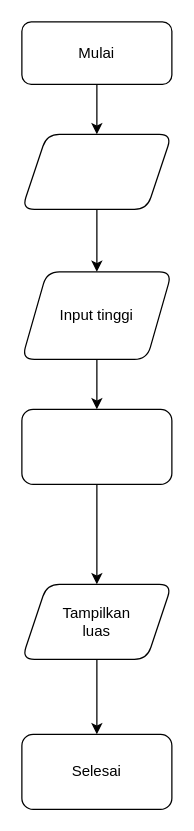
This 194x831 diagram has some shape labels left out. Here are the shapes that lost their labels. From the top down, the centre of each, then its label:
At point (96, 171): "Input alas".
At point (96, 446): "Luas <- (Luas * tinggi) /2".
